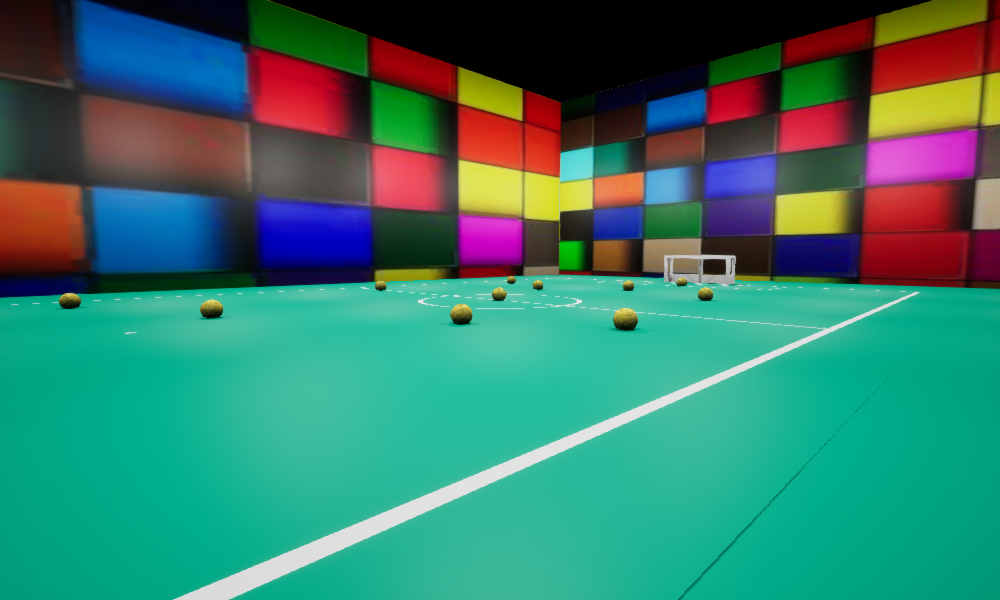b: (613, 308, 637, 329), (450, 304, 472, 323), (200, 299, 222, 317), (59, 293, 80, 308), (698, 287, 712, 300), (492, 287, 506, 300), (623, 280, 633, 290), (375, 281, 386, 290), (532, 280, 542, 289), (676, 278, 686, 286), (507, 276, 515, 283)
g: (664, 255, 735, 284)
